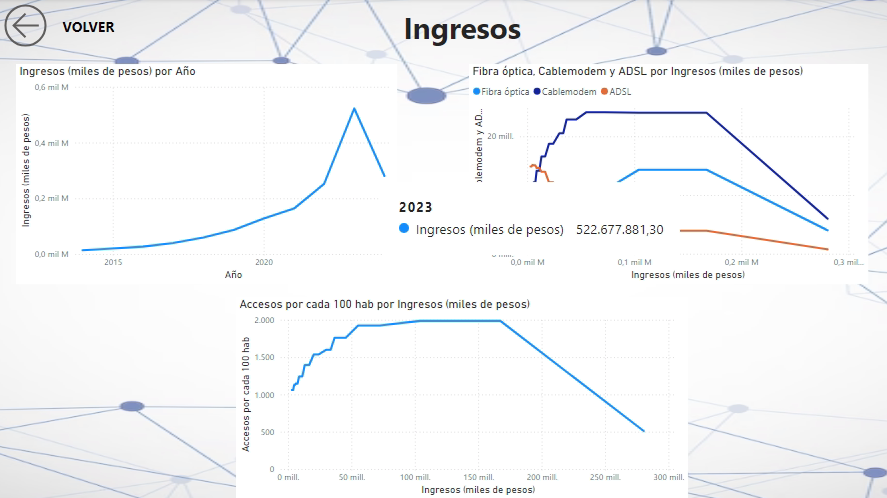

This screenshot's page, from the dashboard's own definition file:
{"tool":"powerbi","page":{"name":"Ingresos","canvas":[1280,720],"ordinal":4},"visuals":[{"type":"lineChart","fields":{"Category":["Ingresos.Año"],"Y":["Sum(Ingresos.Ingresos (miles de pesos))"]},"box":[24.5,93.6,548.6,316.8],"z":0},{"type":"lineChart","fields":{"Category":["Ingresos.Ingresos (miles de pesos)"],"Y":["Sum(Penetración-poblacion.Accesos por cada 100 hab)"]},"box":[341.3,429.1,650.9,290.9],"z":1000},{"type":"lineChart","fields":{"Category":["Ingresos.Ingresos (miles de pesos)"],"Y":["Sum(Accesos Por Tecnología.ADSL)","Sum(Accesos Por Tecnología.Cablemodem)","Sum(Accesos Por Tecnología.Fibra óptica)"]},"box":[676.8,93.6,574.6,316.8],"z":2000},{"type":"textbox","box":[322.6,7.2,688.3,69.1],"z":3000},{"type":"actionButton","box":[0,0,169.9,76.3],"z":4000}]}

Visuals, with their boxes in screenshot pixels (x1, y1, x2, y2), scaled from the page's 1280x720 canvas onto the 887x498 screenshot:
lineChart - Ingresos.Año x Sum(Ingresos.Ingresos (miles de pesos)): [left=17, top=65, right=397, bottom=284]
lineChart - Ingresos.Ingresos (miles de pesos) x Sum(Penetración-poblacion.Accesos por cada 100 hab): [left=237, top=297, right=688, bottom=497]
lineChart - Ingresos.Ingresos (miles de pesos) x Sum(Accesos Por Tecnología.ADSL): [left=469, top=65, right=867, bottom=284]
textbox: [left=224, top=5, right=701, bottom=53]
actionButton: [left=0, top=0, right=118, bottom=53]
